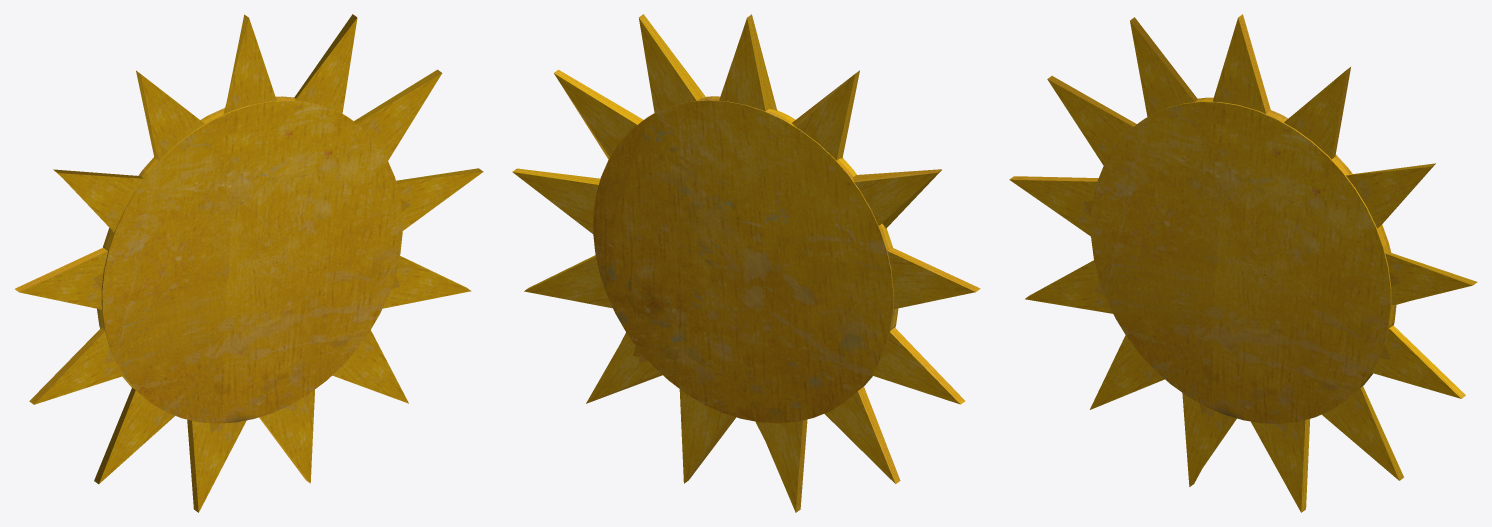
Rendered from mdlSol.obj.
3 renders of one model, left to right at view 1: azimuth 30°, elevation 25°; view 2: azimuth 150°, elevation 25°; view 3: azimuth 330°, elevation 25°, orthographic.
Parts seen in each view (by area): view 1: mdlSol, mdlSolPicos; view 2: mdlSol, mdlSolPicos; view 3: mdlSol, mdlSolPicos.
Boxes of the visible parts, x1=… form: mdlSol: x1=97, y1=96, x2=402, y2=423; mdlSolPicos: x1=15, y1=14, x2=483, y2=512; mdlSol: x1=593, y1=96, x2=898, y2=423; mdlSolPicos: x1=512, y1=14, x2=980, y2=512; mdlSol: x1=1091, y1=97, x2=1396, y2=423; mdlSolPicos: x1=1009, y1=14, x2=1477, y2=512.
Size of the model in its own units: 3.02 by 3.01 by 0.0741.
Materials: 1 (1 with a texture image).
